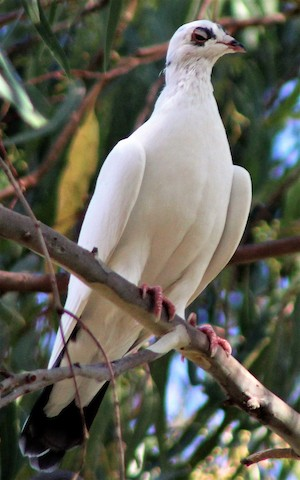pigeon: (11, 13, 257, 475)
